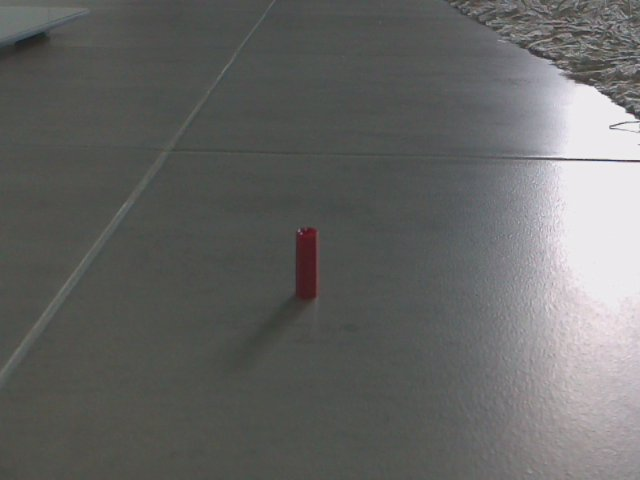Rot: (287, 219, 327, 309)
